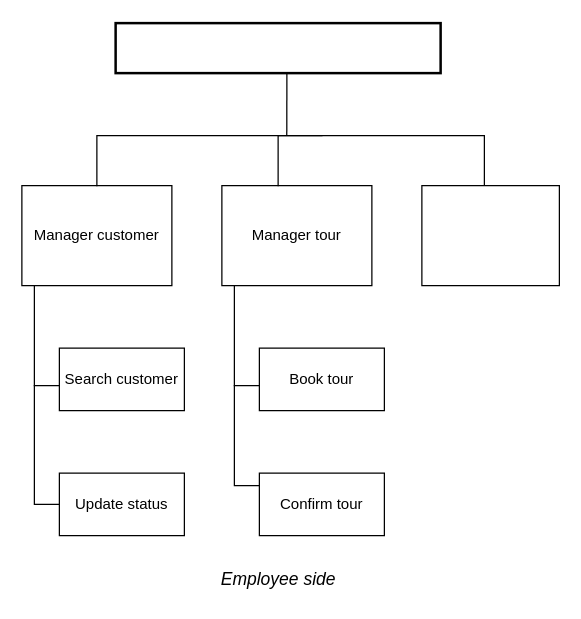
The diagram is 581 pixels wide and 619 high, and some of its shapes have lost their labels. Each missing label, with the centre of its shape:
"Contact customer" goes at point 490,235.
"Website manager travel" goes at point 277,47.
